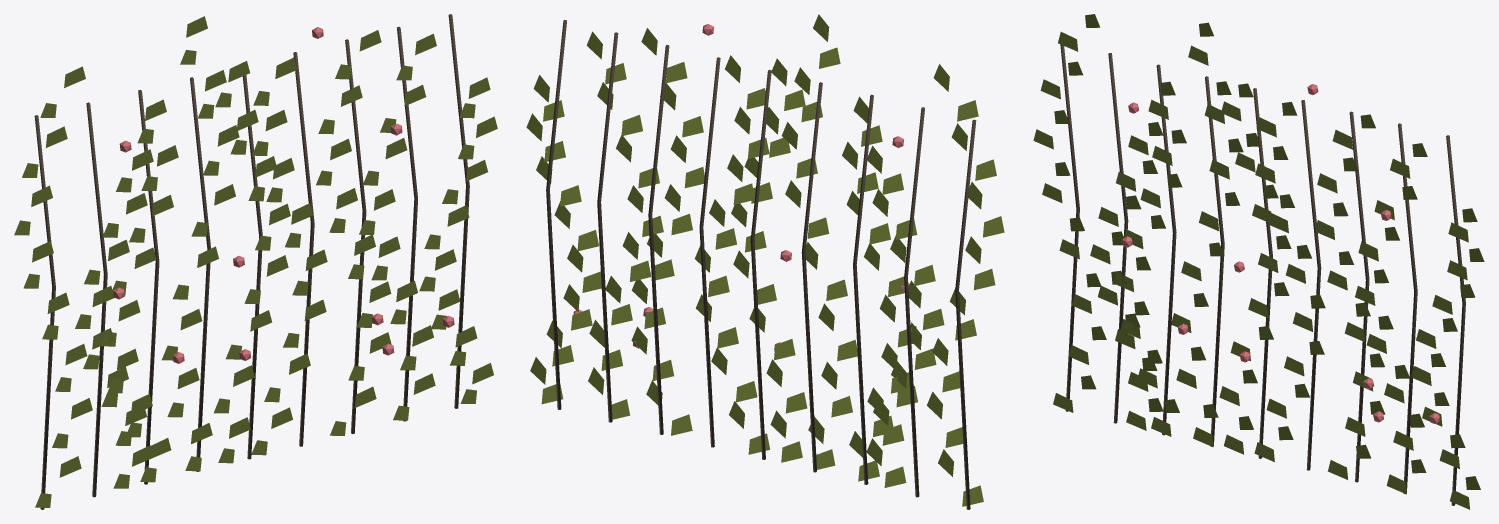
File: city_greenery_lush.glb
The picture shows the model from 3 angles, left to right: view 1: azimuth 30°, elevation 25°; view 2: azimuth 150°, elevation 25°; view 3: azimuth 330°, elevation 25°; orthographic projection. The views are drawn at different scales.
Parts seen in each view (by area): view 1: CityGreeneryLush_Leaves, CityGreeneryLush_Stem1, CityGreeneryLush_Stem3, CityGreeneryLush_Stem5, CityGreeneryLush_Stem8, CityGreeneryLush_Stem7, CityGreeneryLush_Stem0, CityGreeneryLush_Stem2, CityGreeneryLush_Stem6, CityGreeneryLush_Stem4, CityGreeneryLush_Blooms; view 2: CityGreeneryLush_Leaves, CityGreeneryLush_Stem7, CityGreeneryLush_Stem6, CityGreeneryLush_Stem0, CityGreeneryLush_Stem5, CityGreeneryLush_Stem1, CityGreeneryLush_Stem2, CityGreeneryLush_Stem4, CityGreeneryLush_Stem8, CityGreeneryLush_Stem3; view 3: CityGreeneryLush_Leaves, CityGreeneryLush_Stem5, CityGreeneryLush_Stem3, CityGreeneryLush_Stem7, CityGreeneryLush_Stem0, CityGreeneryLush_Stem1, CityGreeneryLush_Stem2, CityGreeneryLush_Stem8, CityGreeneryLush_Stem6, CityGreeneryLush_Stem4, CityGreeneryLush_Blooms.
Boxes of the visible parts, box(x1,y1,x2,y2) form: CityGreeneryLush_Leaves: box(14, 16, 497, 507); CityGreeneryLush_Stem1: box(86, 102, 107, 497); CityGreeneryLush_Stem3: box(190, 77, 210, 471); CityGreeneryLush_Stem5: box(293, 52, 314, 446); CityGreeneryLush_Stem8: box(448, 14, 469, 408); CityGreeneryLush_Stem7: box(397, 26, 417, 421); CityGreeneryLush_Stem0: box(34, 115, 55, 509); CityGreeneryLush_Stem2: box(138, 90, 159, 484); CityGreeneryLush_Stem6: box(345, 39, 366, 433); CityGreeneryLush_Stem4: box(242, 75, 262, 459); CityGreeneryLush_Blooms: box(113, 27, 454, 363); CityGreeneryLush_Leaves: box(526, 14, 1004, 506); CityGreeneryLush_Stem7: box(597, 32, 618, 422); CityGreeneryLush_Stem6: box(648, 45, 669, 434); CityGreeneryLush_Stem0: box(955, 119, 976, 509); CityGreeneryLush_Stem5: box(699, 57, 720, 447); CityGreeneryLush_Stem1: box(904, 107, 924, 497); CityGreeneryLush_Stem2: box(853, 94, 873, 484); CityGreeneryLush_Stem4: box(750, 69, 771, 459); CityGreeneryLush_Stem8: box(546, 20, 566, 409); CityGreeneryLush_Stem3: box(801, 82, 822, 472); CityGreeneryLush_Leaves: box(1033, 14, 1484, 509); CityGreeneryLush_Stem5: box(1301, 100, 1321, 470); CityGreeneryLush_Stem3: box(1205, 76, 1224, 446); CityGreeneryLush_Stem7: box(1398, 123, 1417, 494); CityGreeneryLush_Stem0: box(1060, 44, 1079, 411); CityGreeneryLush_Stem1: box(1108, 53, 1128, 423); CityGreeneryLush_Stem2: box(1156, 64, 1176, 435); CityGreeneryLush_Stem8: box(1446, 135, 1465, 505); CityGreeneryLush_Stem6: box(1349, 111, 1369, 482); CityGreeneryLush_Stem4: box(1253, 88, 1272, 458); CityGreeneryLush_Blooms: box(1122, 84, 1440, 423).
Size of the model in its own units: 4.16 by 3.77 by 0.1432.
